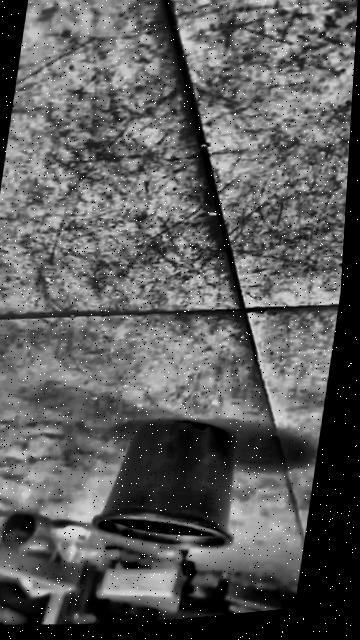pot: (86, 406, 248, 560)
